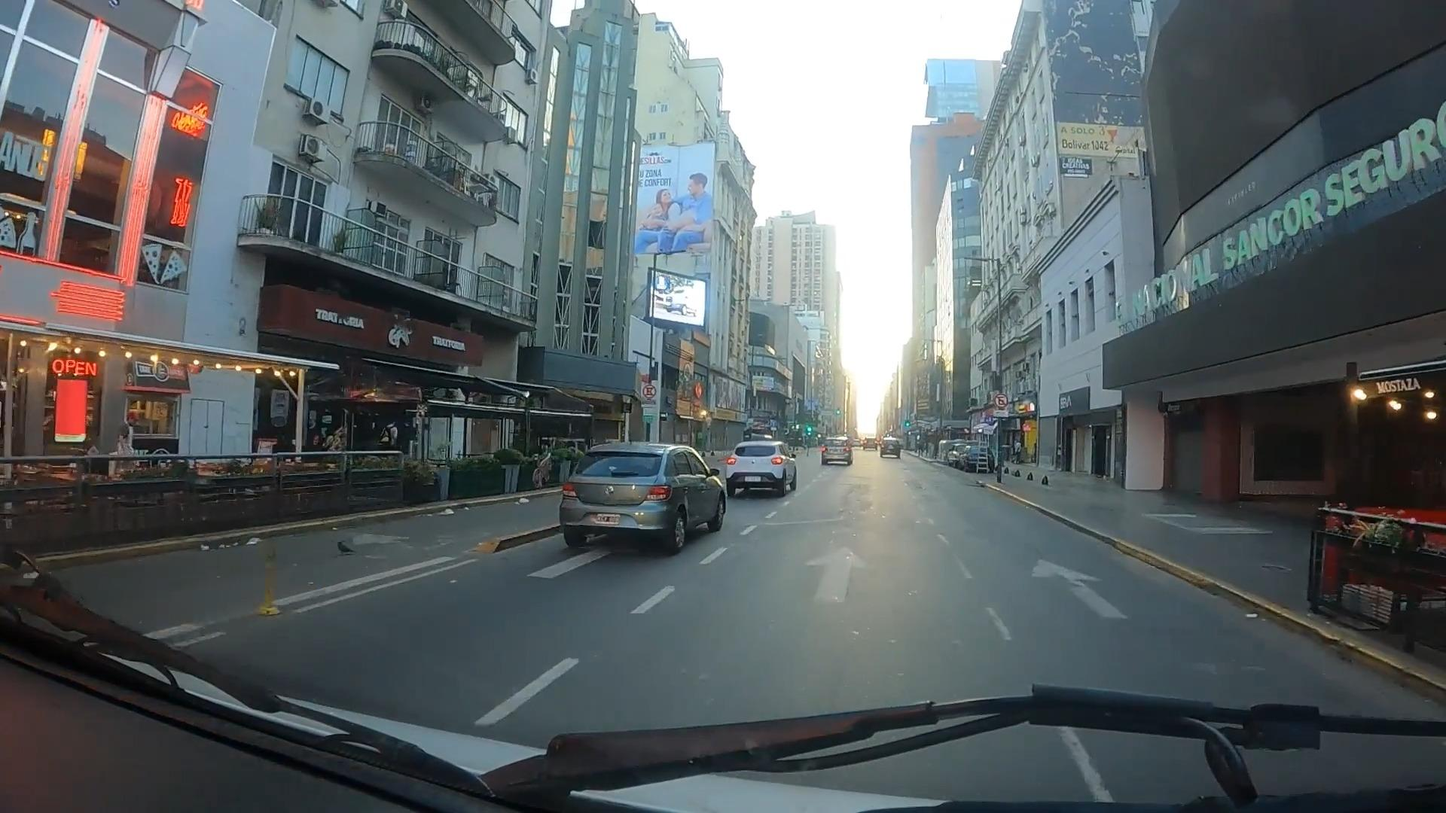dry: (44, 449, 1445, 731)
